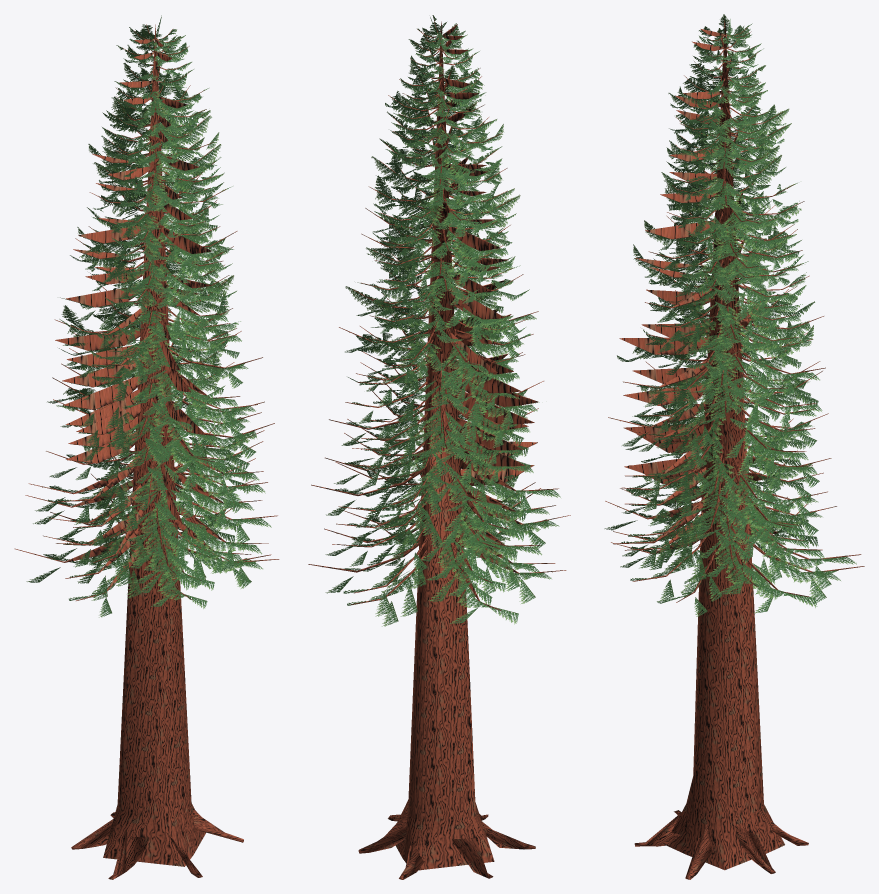
Rendered from redwood-tree.glb.
3 renders of one model, left to right at view 1: azimuth 30°, elevation 25°; view 2: azimuth 150°, elevation 25°; view 3: azimuth 270°, elevation 25°, orthographic.
Visible parts, largest first — view 1: Needles, Trunk; view 2: Needles, Trunk; view 3: Needles, Trunk.
Boxes of the visible parts, x1,y1,x2,y2 form: Needles: (26,15,271,617); Trunk: (14,24,279,879); Needles: (325,15,560,626); Trunk: (308,20,570,879); Needles: (604,14,856,616); Trunk: (605,20,864,879).
Size of the model in its own units: 8.56 by 32.23 by 9.31.
3 materials, 2 textured.
